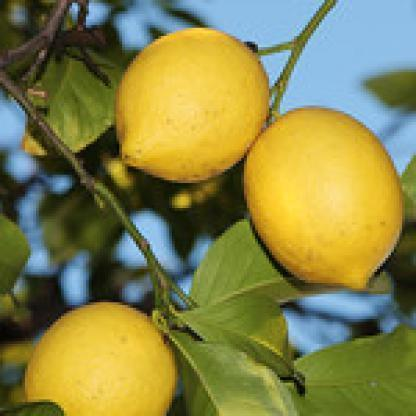lemon: (242, 106, 404, 291), (114, 27, 270, 182), (23, 302, 178, 415)
